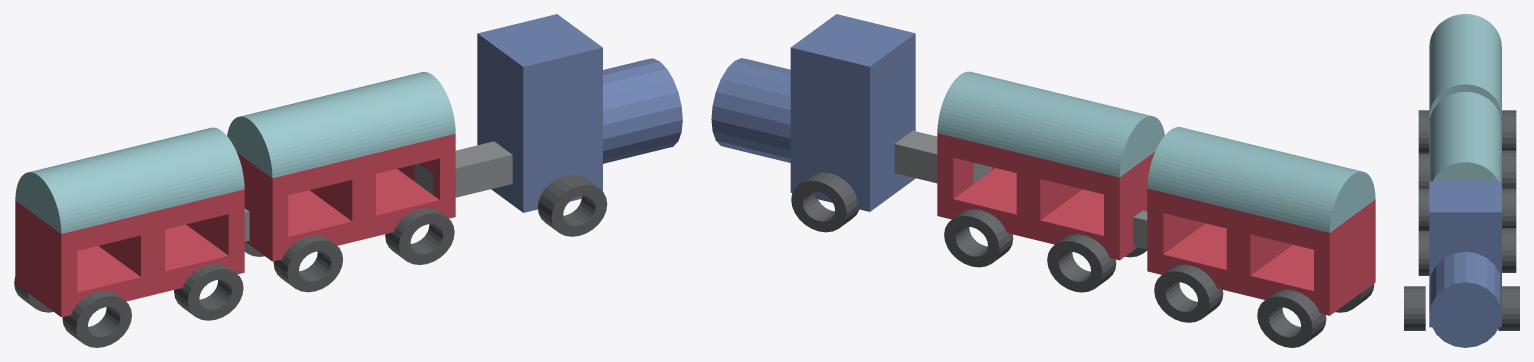
File: Train.glb
3 renders of one model, left to right at view 1: azimuth 30°, elevation 25°; view 2: azimuth 150°, elevation 25°; view 3: azimuth 270°, elevation 25°, orthographic. The views are drawn at different scales.
Parts seen in each view (by area): view 1: Mesh_Mesh_head_geo.001_lambert2SG.001; view 2: Mesh_Mesh_head_geo.001_lambert2SG.001; view 3: Mesh_Mesh_head_geo.001_lambert2SG.001.
Part boxes in pixels (x1,y1,x2,y2): Mesh_Mesh_head_geo.001_lambert2SG.001: (14,14,682,347); Mesh_Mesh_head_geo.001_lambert2SG.001: (711,14,1375,347); Mesh_Mesh_head_geo.001_lambert2SG.001: (1404,14,1519,347).
Size of the model in its own units: 156 by 41 by 32.
